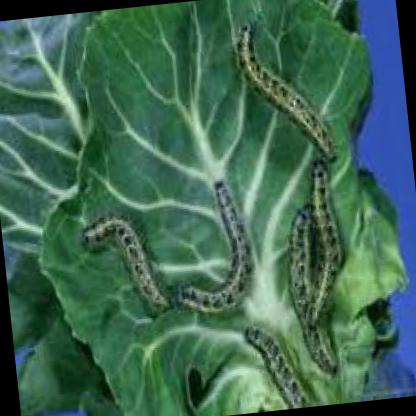pieris: (237, 22, 335, 163), (174, 178, 257, 313), (78, 215, 167, 317), (304, 158, 343, 329)
